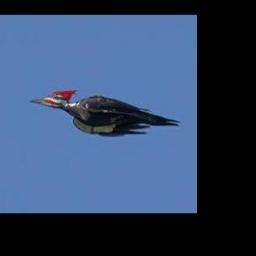Woodpecker: (30, 89, 181, 136)
